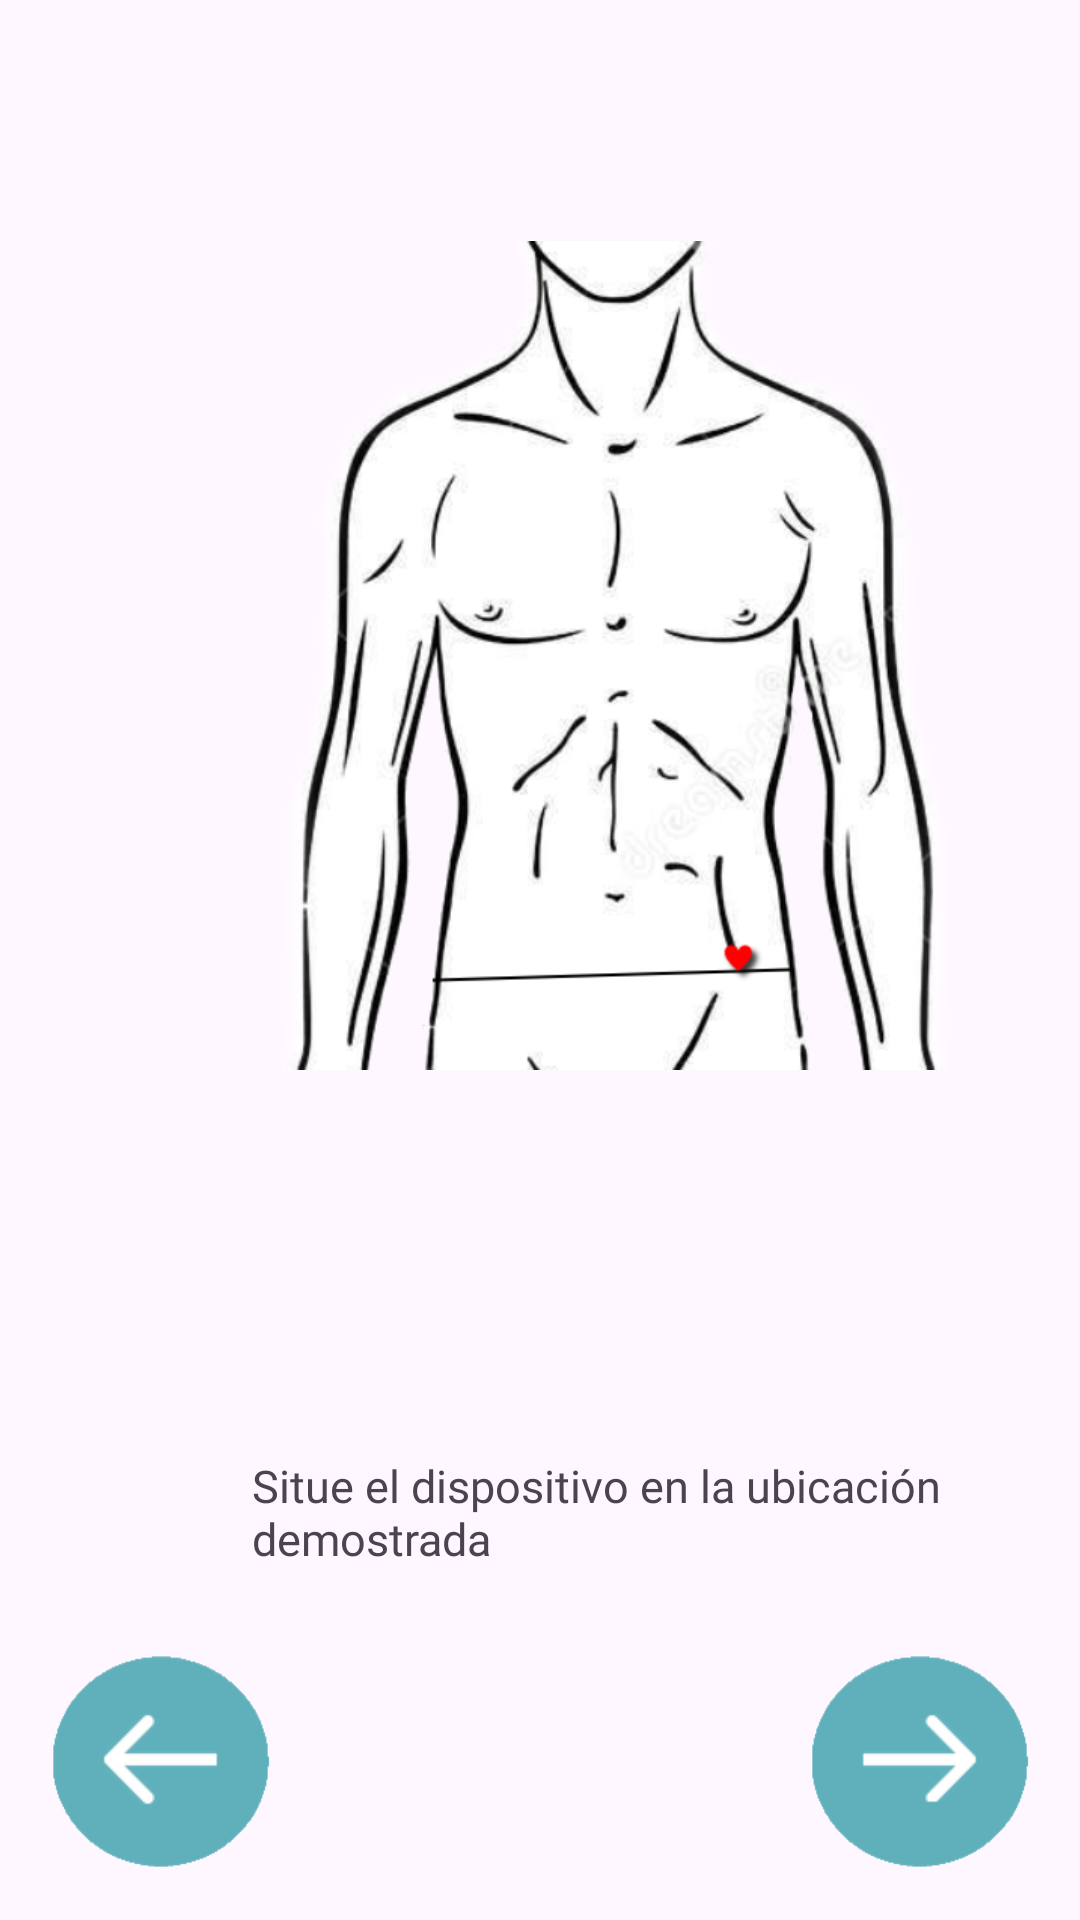

Icon click points for this 1080px x 1920px phone screenshot, format (x=x, y=y):
flecha derecha: (x=920, y=1761)
flecha izquierda: (x=161, y=1761)
